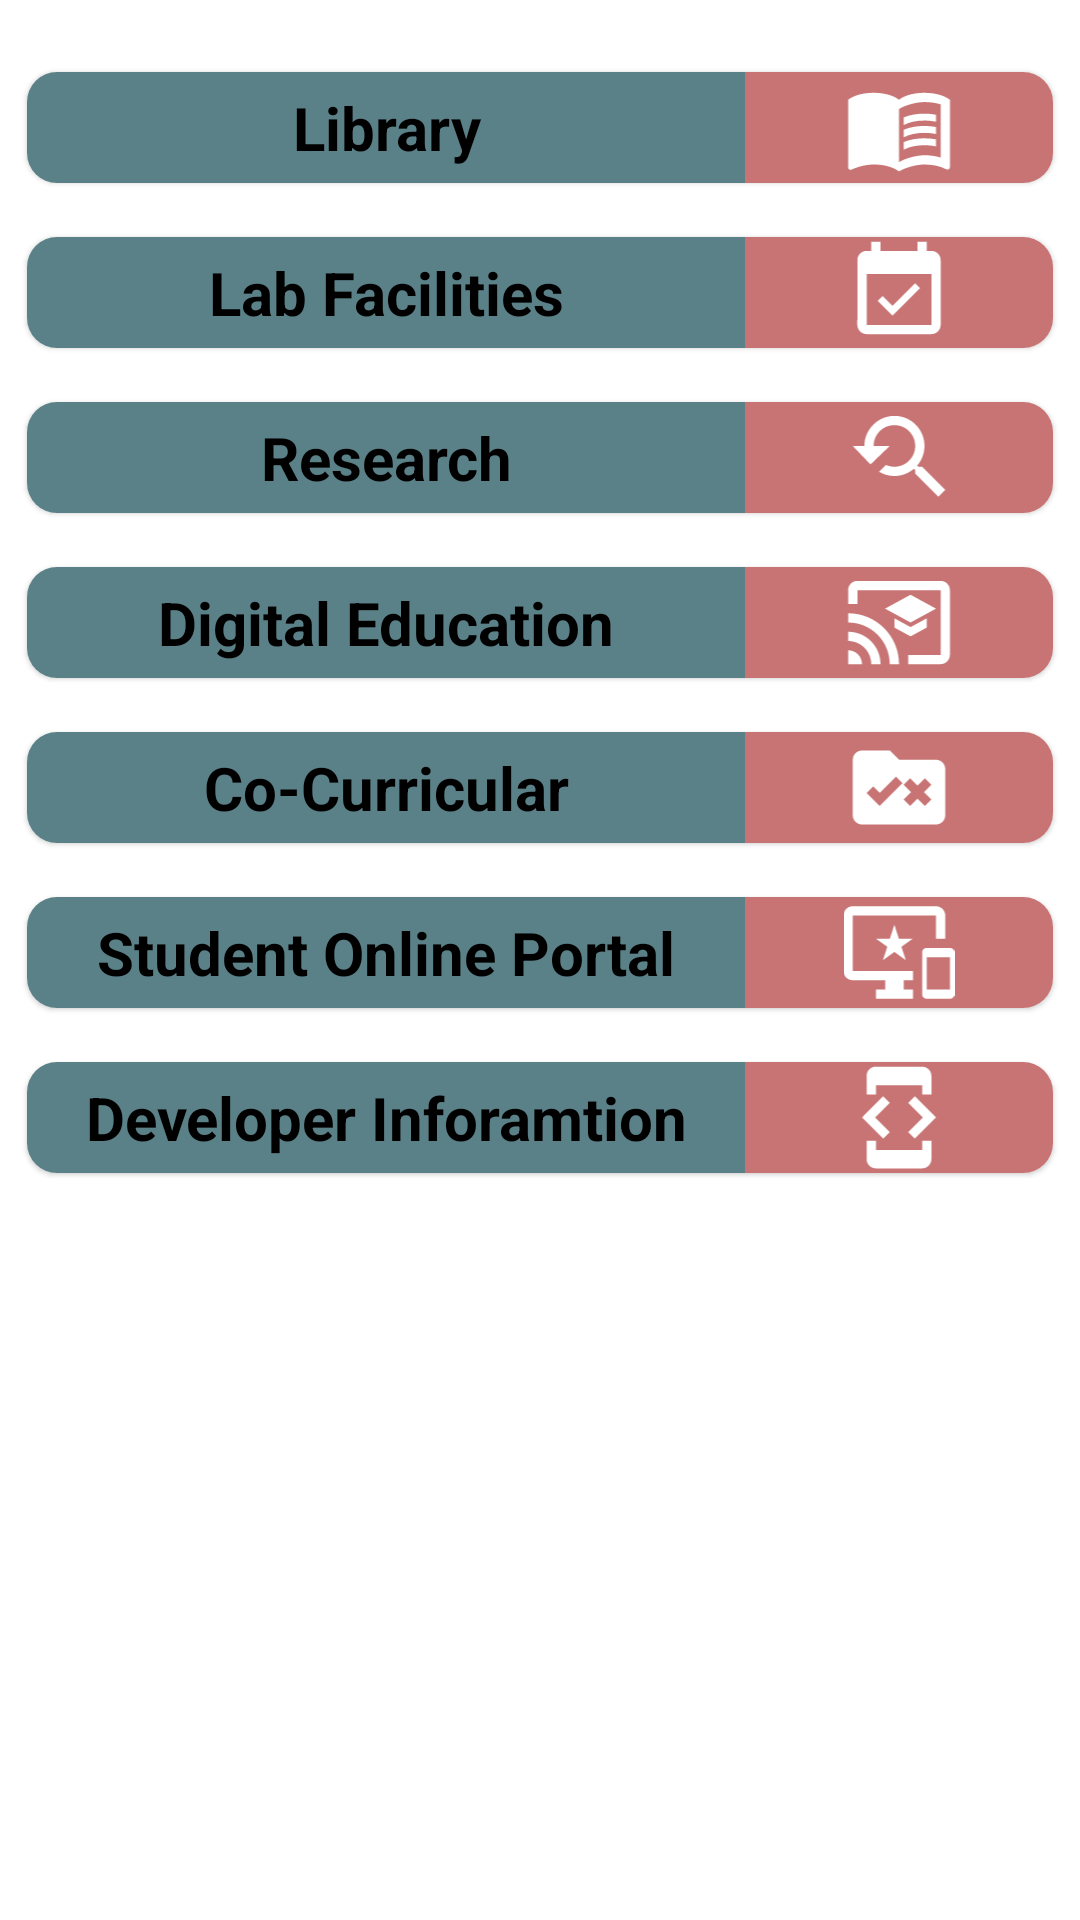

Icons on this 1080 x 1920 Android screen, each with the point to tap as (x,y):
book: (899,127)
cast for education: (899,622)
developer mode: (899,1117)
important devices: (899,952)
rule folder: (899,787)
youtube searched for: (899,457)
